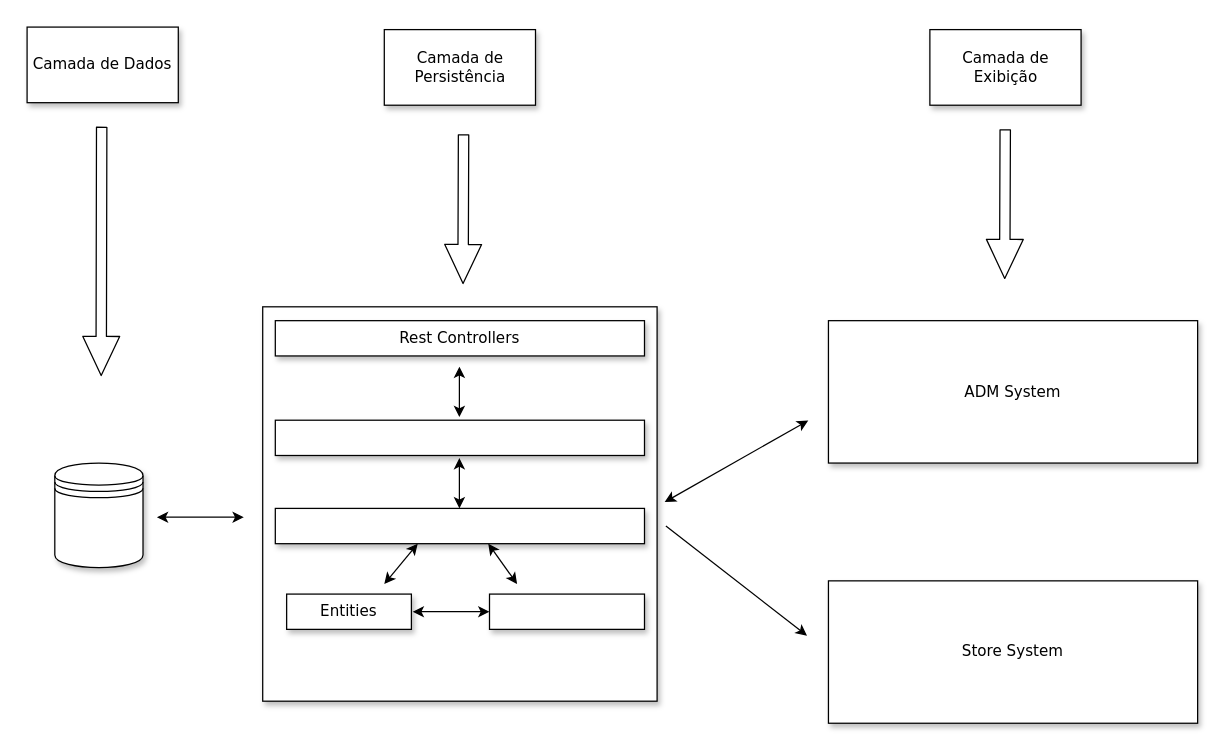
This 1227x755 diagram has some shape labels left out. Here are the shapes that lost their labels. From the top down, the centre of each, then its label:
At (460,439): "Services".
At (100,516): "DB".
At (460,527): "Repository".
At (567,613): "Busisness Roles".
